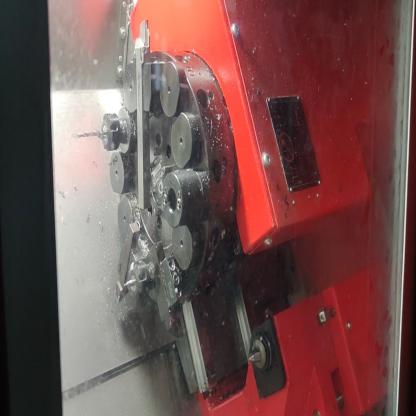bit: (129, 9, 169, 215), (145, 237, 194, 345), (110, 217, 146, 311)
